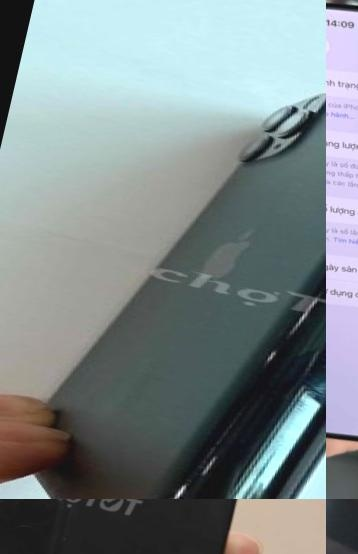scratch: (2, 0, 326, 499), (180, 545, 209, 554)
